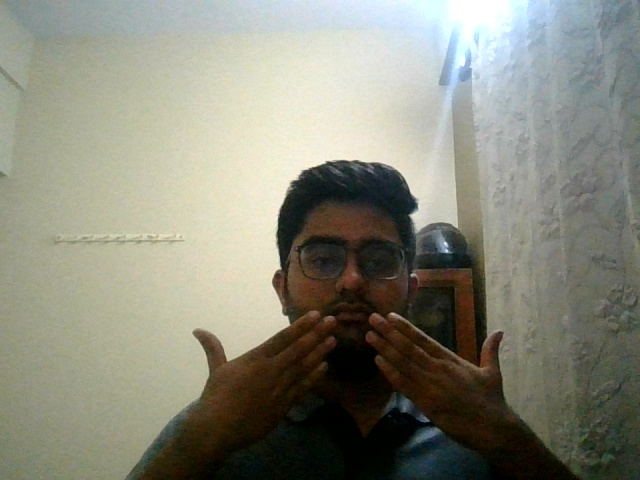Thank You: (178, 304, 530, 477)
